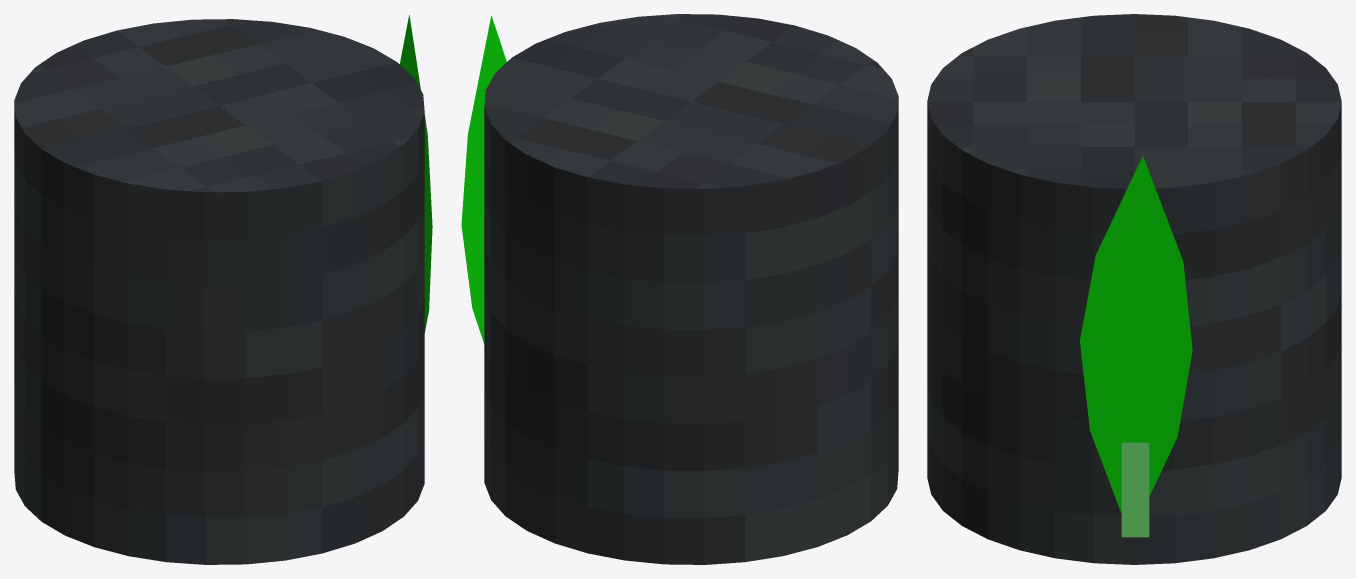
File: mongodb.glb
The picture shows the model from 3 angles, left to right: view 1: azimuth 30°, elevation 25°; view 2: azimuth 150°, elevation 25°; view 3: azimuth 270°, elevation 25°; orthographic projection.
Visible parts, largest first — view 1: Cylinder, Plane; view 2: Cylinder, Plane; view 3: Cylinder, Plane, Plane.001.
Part boxes in pixels (bbox=[...]): Cylinder: bbox=[14, 19, 424, 564]; Plane: bbox=[400, 15, 432, 332]; Cylinder: bbox=[484, 14, 898, 564]; Plane: bbox=[461, 15, 506, 343]; Cylinder: bbox=[927, 14, 1341, 564]; Plane: bbox=[1080, 156, 1192, 513]; Plane.001: bbox=[1121, 442, 1149, 537].
Bounding box in the file's own units: 2.12 × 2.22 × 2.
Materials: 3 (1 with a texture image).
